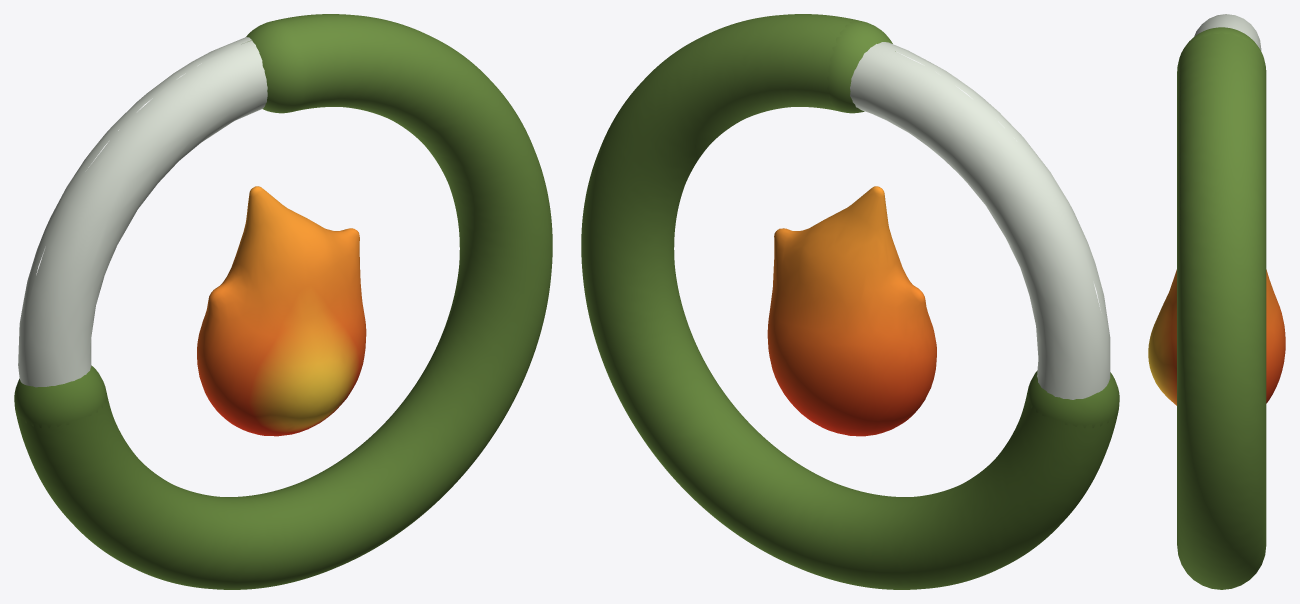
The model's file is calories.glb.
3 renders of one model, left to right at view 1: azimuth 30°, elevation 25°; view 2: azimuth 150°, elevation 25°; view 3: azimuth 270°, elevation 25°, orthographic. The views are drawn at different scales.
Visible parts, largest first — view 1: calories-arc, flame, calories-track, calories-start, calories-end; view 2: calories-arc, flame, calories-track, calories-start, calories-end; view 3: calories-arc, flame, calories-track, calories-start.
Boxes of the visible parts, <box> form: calories-arc: <box>15,14,552,589</box>; flame: <box>197,186,366,436</box>; calories-track: <box>18,37,267,387</box>; calories-start: <box>246,20,306,113</box>; calories-end: <box>14,365,106,428</box>; calories-arc: <box>581,14,1118,589</box>; flame: <box>767,186,936,436</box>; calories-track: <box>850,42,1110,399</box>; calories-start: <box>827,20,895,113</box>; calories-end: <box>1027,370,1119,428</box>; calories-arc: <box>1177,31,1266,589</box>; flame: <box>1148,269,1285,405</box>; calories-track: <box>1194,14,1261,50</box>; calories-start: <box>1177,27,1266,70</box>.
Size of the model in its own units: 1.83 by 1.84 by 0.4321.
